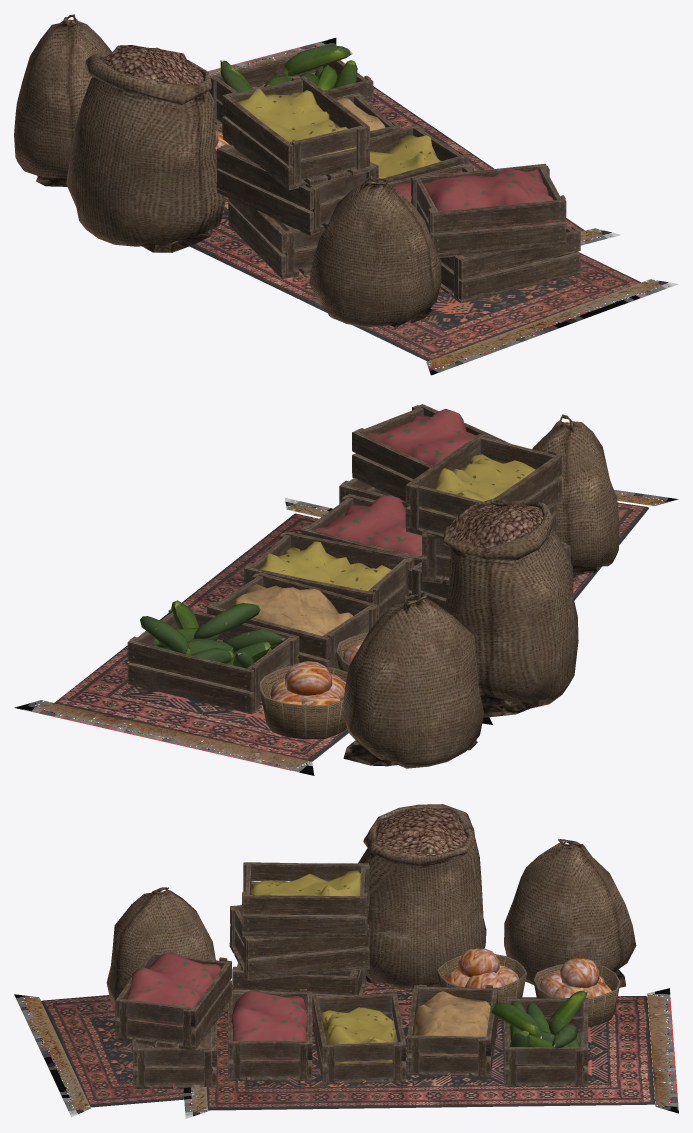
The model's file is SHO_Stand_Food_Small_B-transformed.glb.
3 views of the same model, one above another, from view 1: azimuth 30°, elevation 25°; view 2: azimuth 150°, elevation 25°; view 3: azimuth 270°, elevation 25° (orthographic). The views are drawn at different scales.
Visible parts, largest first — view 1: default; view 2: default; view 3: default.
Boxes of the visible parts, left/top/right/bottom form: default: left=14, top=14, right=678, bottom=375; default: left=14, top=404, right=678, bottom=775; default: left=14, top=804, right=678, bottom=1118.
Bounding box in the file's own units: 1.65 × 0.6786 × 2.6.
Materials: 6 (6 with a texture image).
